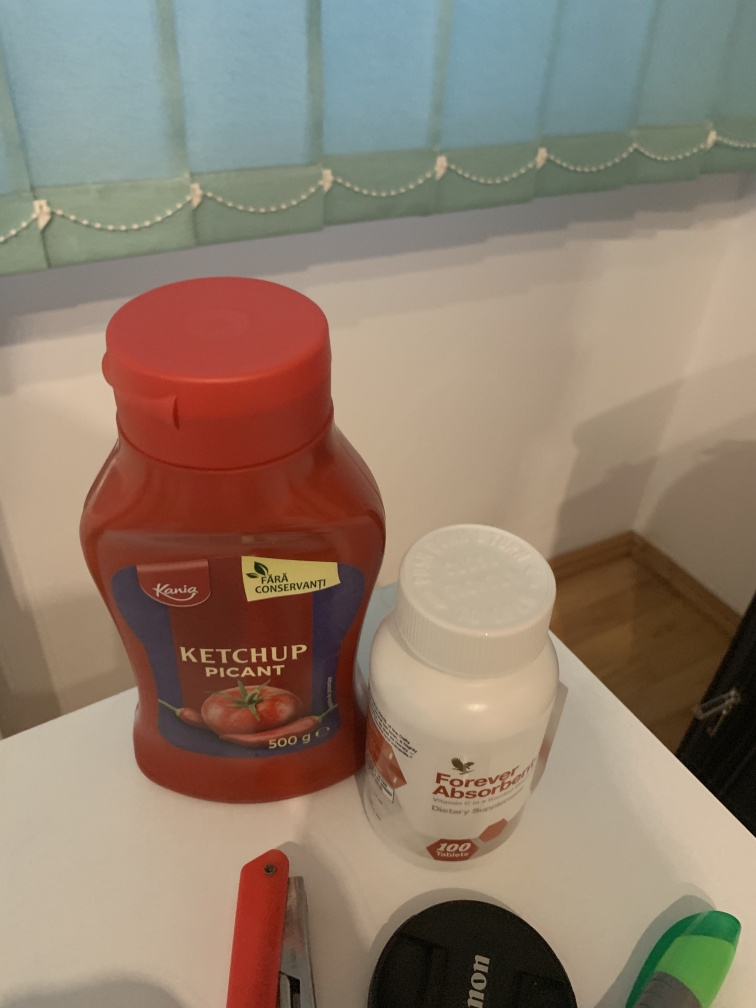ketchup: (71, 275, 392, 805)
